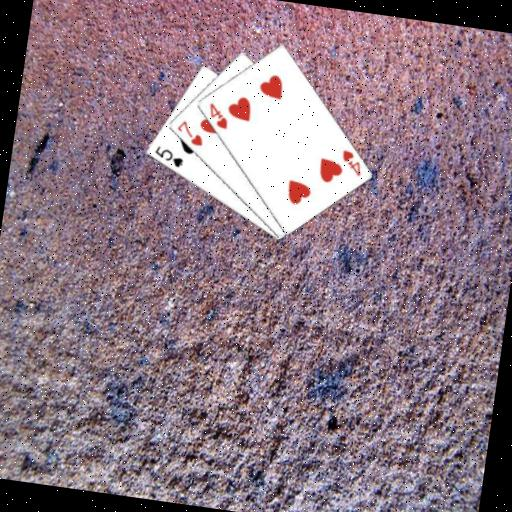4H: (203, 99, 232, 131), (336, 146, 365, 178)
5S: (150, 142, 186, 169)
7H: (172, 116, 207, 148)
